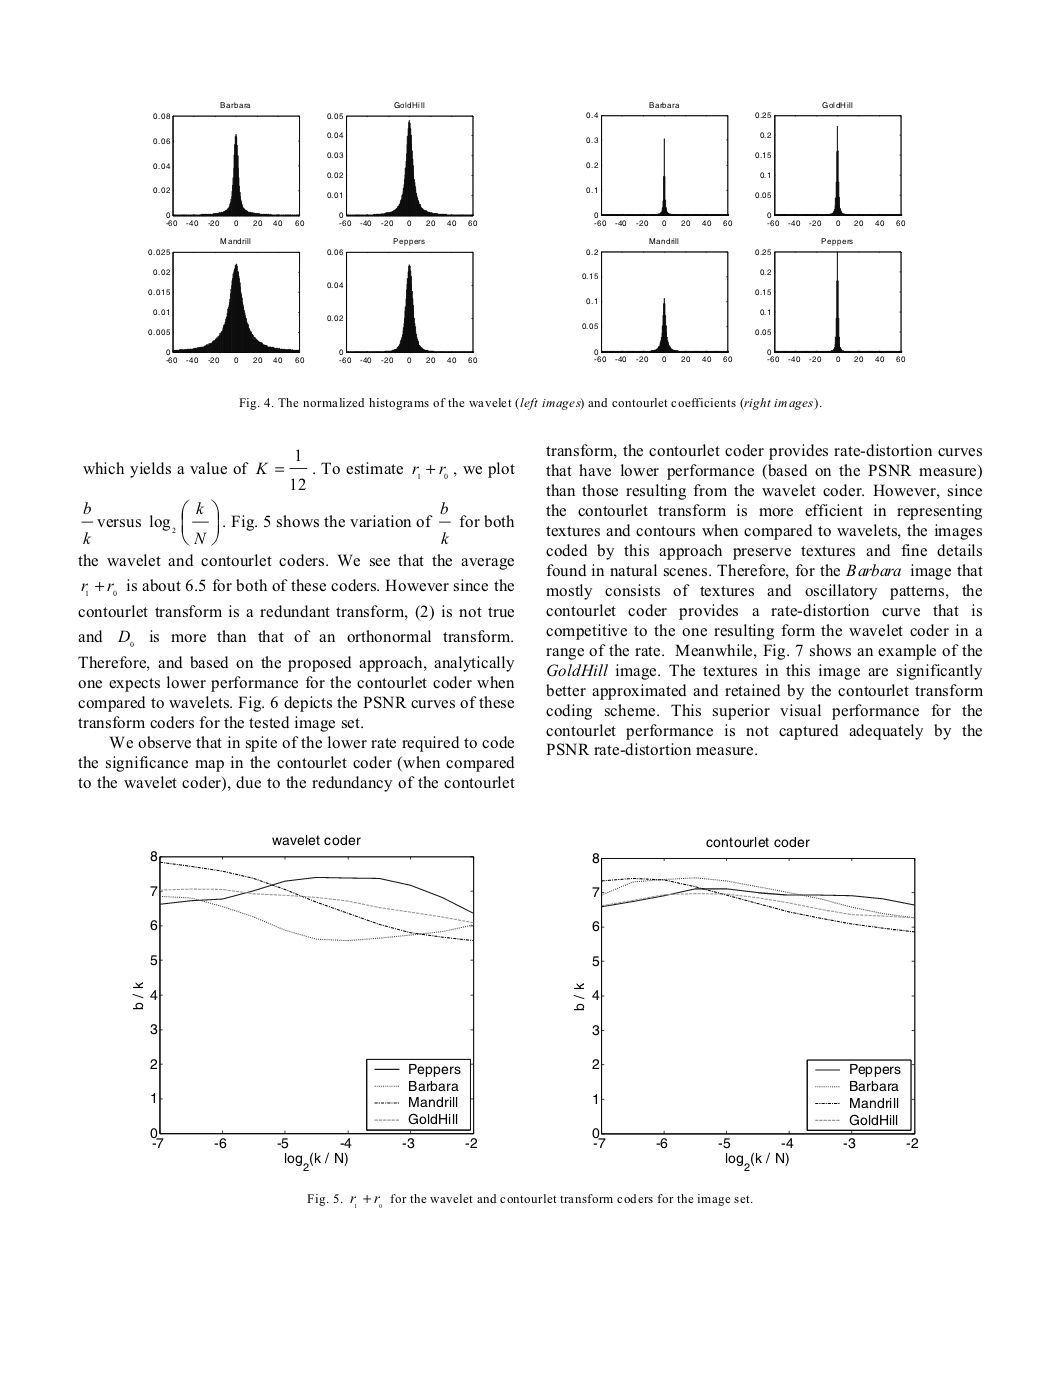figure: (573, 846, 918, 1170), (132, 851, 477, 1170), (148, 249, 304, 364), (153, 111, 304, 227), (327, 111, 477, 227), (327, 249, 477, 364), (755, 111, 905, 227), (582, 249, 732, 363), (755, 249, 905, 363), (586, 111, 732, 227)
